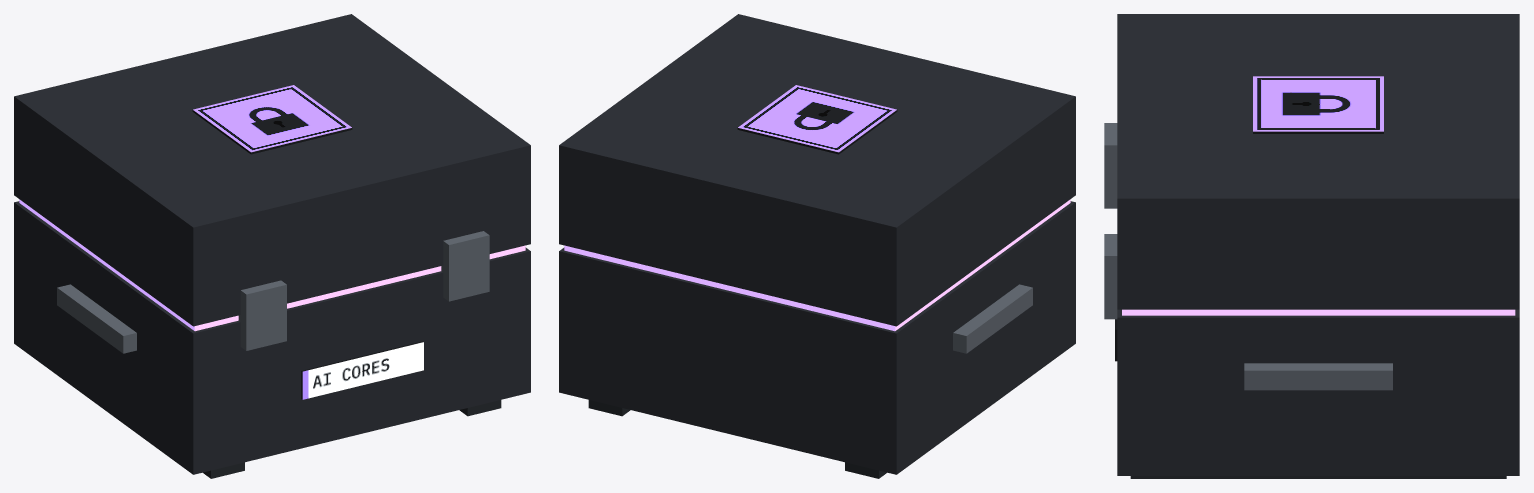
Rendered from cargo_08_secure.glb.
The picture shows the model from 3 angles, left to right: view 1: azimuth 30°, elevation 25°; view 2: azimuth 150°, elevation 25°; view 3: azimuth 270°, elevation 25°; orthographic projection. The views are drawn at different scales.
Visible parts, largest first — view 1: shell_lid, shell_lower, placard_top, manifest, lock_1, lock_2, handle_1, seal_seam; view 2: shell_lid, shell_lower, placard_top, seal_seam, handle_1; view 3: shell_lid, shell_lower, placard_top, handle_2, seal_seam, lock_1, lock_2, runner_2.
Boxes of the visible parts, x1,y1,x2,y2 form: shell_lid: [14, 14, 530, 326]; shell_lower: [14, 201, 530, 474]; placard_top: [192, 85, 352, 154]; manifest: [301, 341, 423, 399]; lock_1: [238, 280, 286, 350]; lock_2: [441, 231, 489, 301]; handle_1: [57, 284, 136, 353]; seal_seam: [19, 199, 525, 331]; shell_lid: [559, 14, 1075, 326]; shell_lower: [559, 201, 1075, 474]; placard_top: [737, 85, 897, 154]; seal_seam: [564, 199, 1070, 331]; handle_1: [953, 284, 1032, 353]; shell_lid: [1117, 14, 1519, 309]; shell_lower: [1117, 309, 1519, 475]; placard_top: [1253, 76, 1383, 133]; handle_2: [1244, 363, 1392, 390]; seal_seam: [1122, 309, 1515, 315]; lock_1: [1104, 123, 1117, 208]; lock_2: [1104, 234, 1117, 319]; runner_2: [1130, 476, 1506, 478].
Bounding box in the file's own units: 1.08 × 0.746 × 0.95.
Materials: 7 (2 with a texture image).
